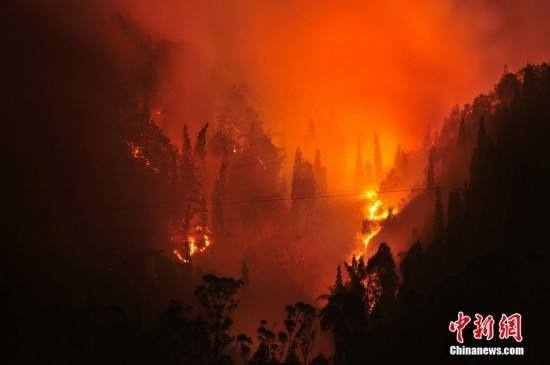fire: (346, 180, 397, 260), (170, 215, 215, 263)
